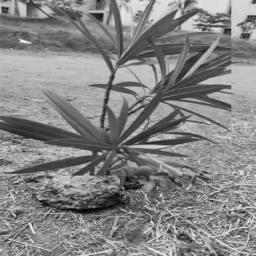OLEANDER: (0, 0, 233, 177)
